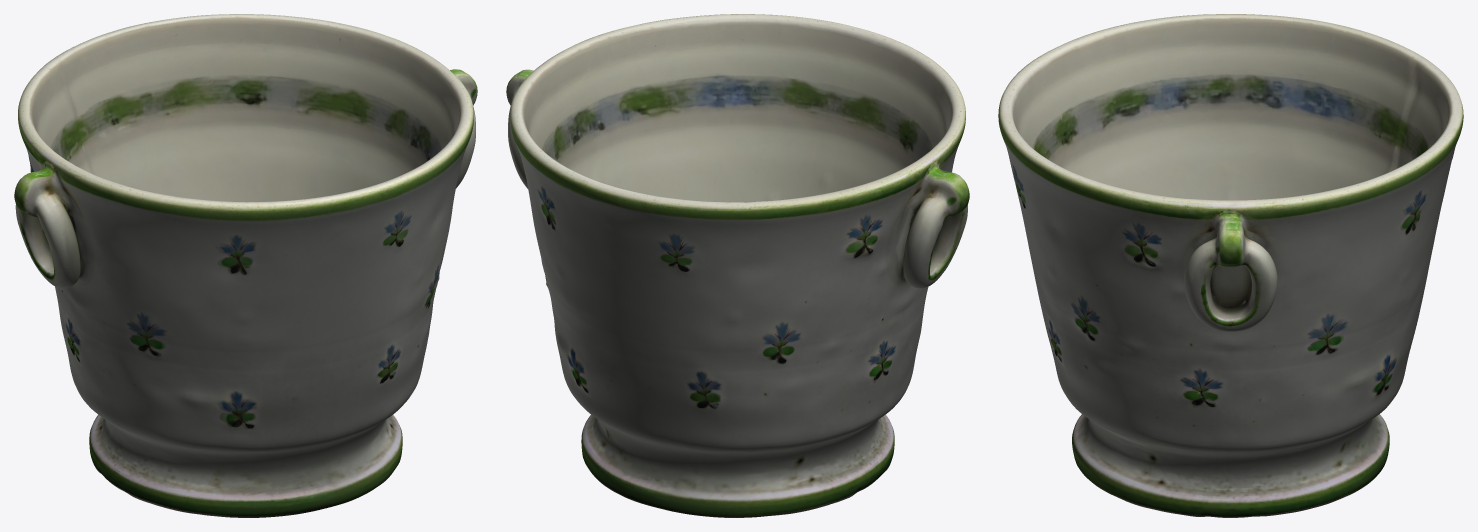
Rendered from ceramic-vessel.glb.
3 renders of one model, left to right at view 1: azimuth 30°, elevation 25°; view 2: azimuth 150°, elevation 25°; view 3: azimuth 270°, elevation 25°, orthographic.
Visible parts, largest first — view 1: tripo_node_960e8c7a-dc1a-4825-8e5f-2f43d3e3d7ce; view 2: tripo_node_960e8c7a-dc1a-4825-8e5f-2f43d3e3d7ce; view 3: tripo_node_960e8c7a-dc1a-4825-8e5f-2f43d3e3d7ce.
Part boxes in pixels (<box>): tripo_node_960e8c7a-dc1a-4825-8e5f-2f43d3e3d7ce: <box>14,14,477,517</box>; tripo_node_960e8c7a-dc1a-4825-8e5f-2f43d3e3d7ce: <box>506,14,969,517</box>; tripo_node_960e8c7a-dc1a-4825-8e5f-2f43d3e3d7ce: <box>998,14,1463,517</box>.
Size of the model in its own units: 0.9799 by 0.7058 by 0.8599.
Materials: 1 (1 with a texture image).
